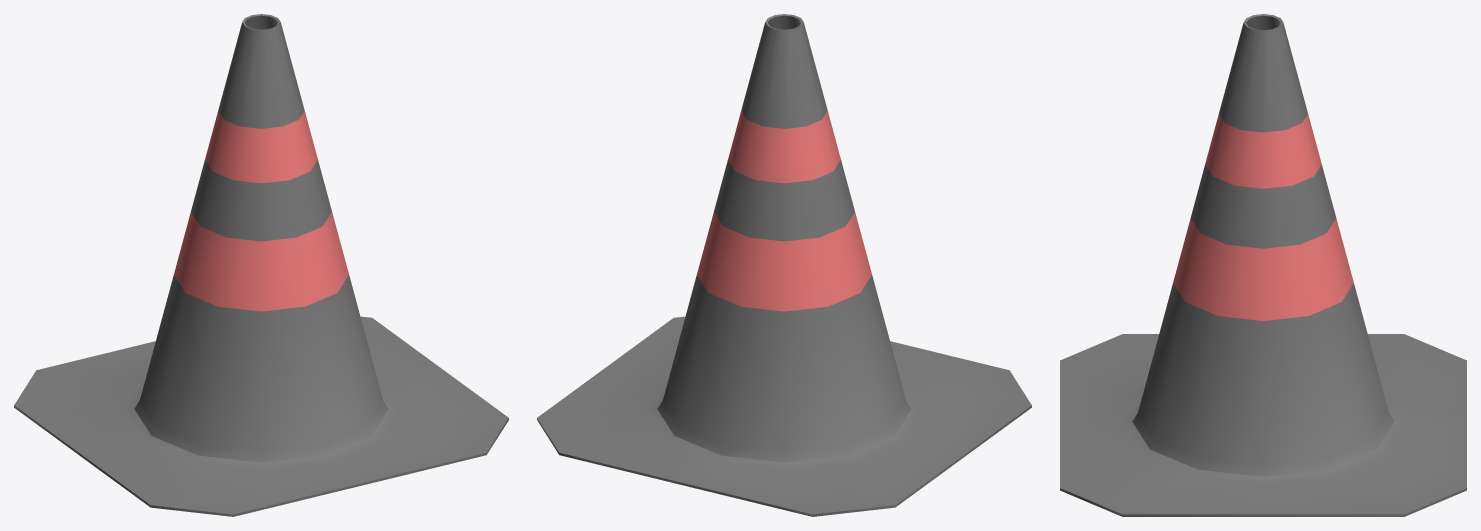
3 views of the same model, side by side, from view 1: azimuth 30°, elevation 25°; view 2: azimuth 150°, elevation 25°; view 3: azimuth 270°, elevation 25° (orthographic). The views are drawn at different scales.
Visible parts, largest first — view 1: Cone; view 2: Cone; view 3: Cone.
Part boxes in pixels (x1=…): Cone: x1=14, y1=14, x2=508, y2=516; Cone: x1=537, y1=14, x2=1031, y2=516; Cone: x1=1060, y1=14, x2=1466, y2=516.
Size of the model in its own units: 30.18 by 28.76 by 31.54.
